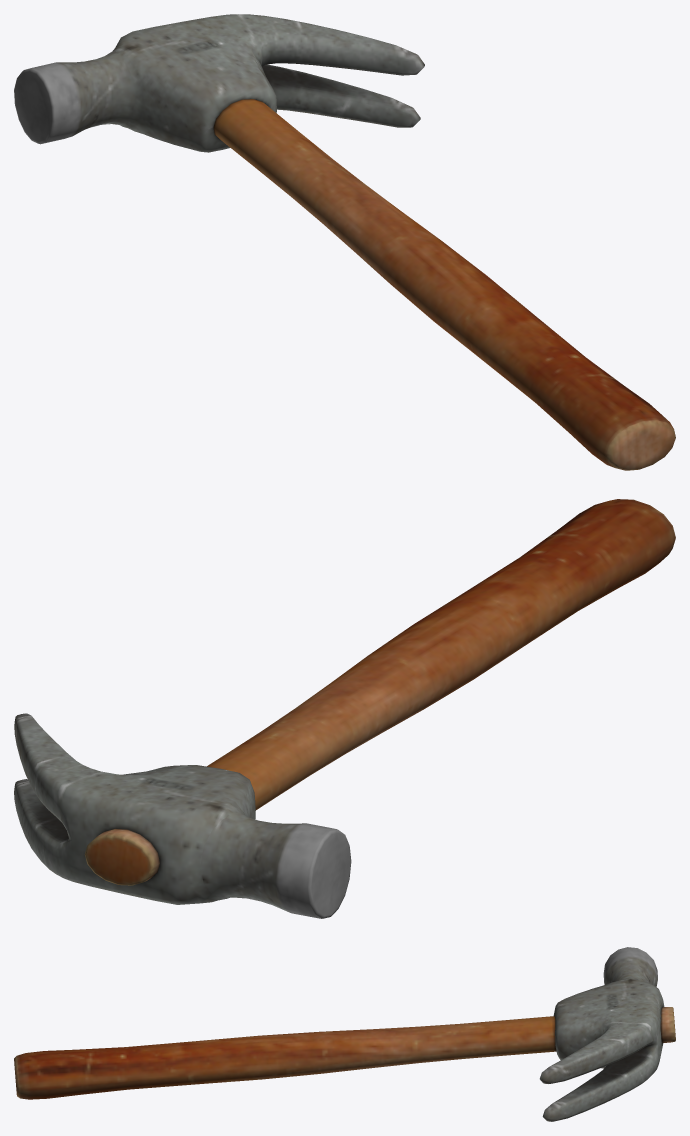
Rendered from cacciaviti2.gltf.
3 renders of one model, top to bottom at view 1: azimuth 30°, elevation 25°; view 2: azimuth 150°, elevation 25°; view 3: azimuth 270°, elevation 25°, orthographic. The views are drawn at different scales.
Parts seen in each view (by area): view 1: Assistenza Tecnica Valigetta Martello; view 2: Assistenza Tecnica Valigetta Martello; view 3: Assistenza Tecnica Valigetta Martello.
Boxes of the visible parts, box(x1,y1,x2,y2) form: Assistenza Tecnica Valigetta Martello: box(14, 14, 675, 470); Assistenza Tecnica Valigetta Martello: box(14, 499, 675, 918); Assistenza Tecnica Valigetta Martello: box(14, 947, 675, 1121).
Size of the model in its own units: 0.05 by 0.0182 by 0.1224.
1 material, 1 textured.
